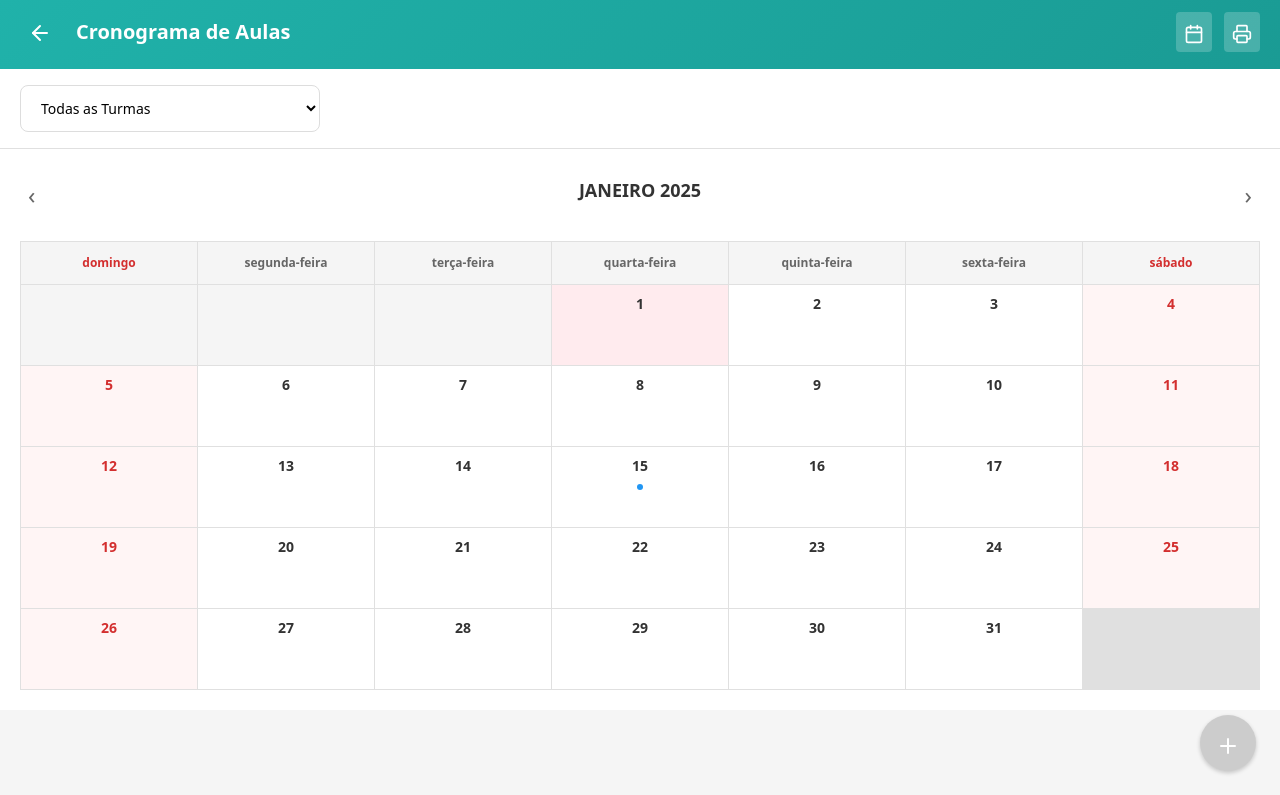
it: CronogramaPage › exibe aulas agendadas para o dia selecionado
What coordinates should you click on to do the following:
click the text "15"
I would click on:
 (640, 465)
Its box is 632,455 -> 648,476.
(page scrolled)
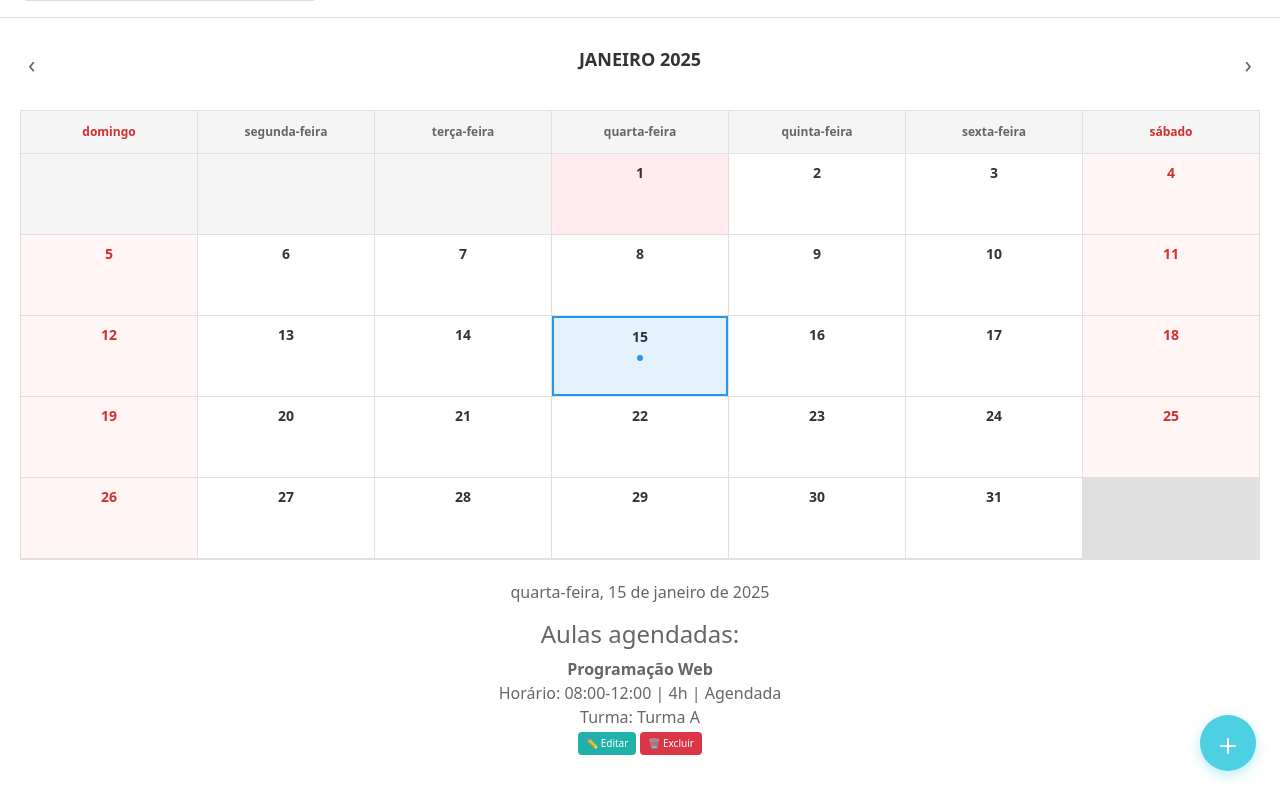
Check: the heading "Aulas agendadas:" is shown, box 541,617 -> 739,650
Check: the text "Programação Web" is shown, box 567,658 -> 713,680
Check: the text "Horário: 08:00-12:00" is shown, box 499,658 -> 781,728
